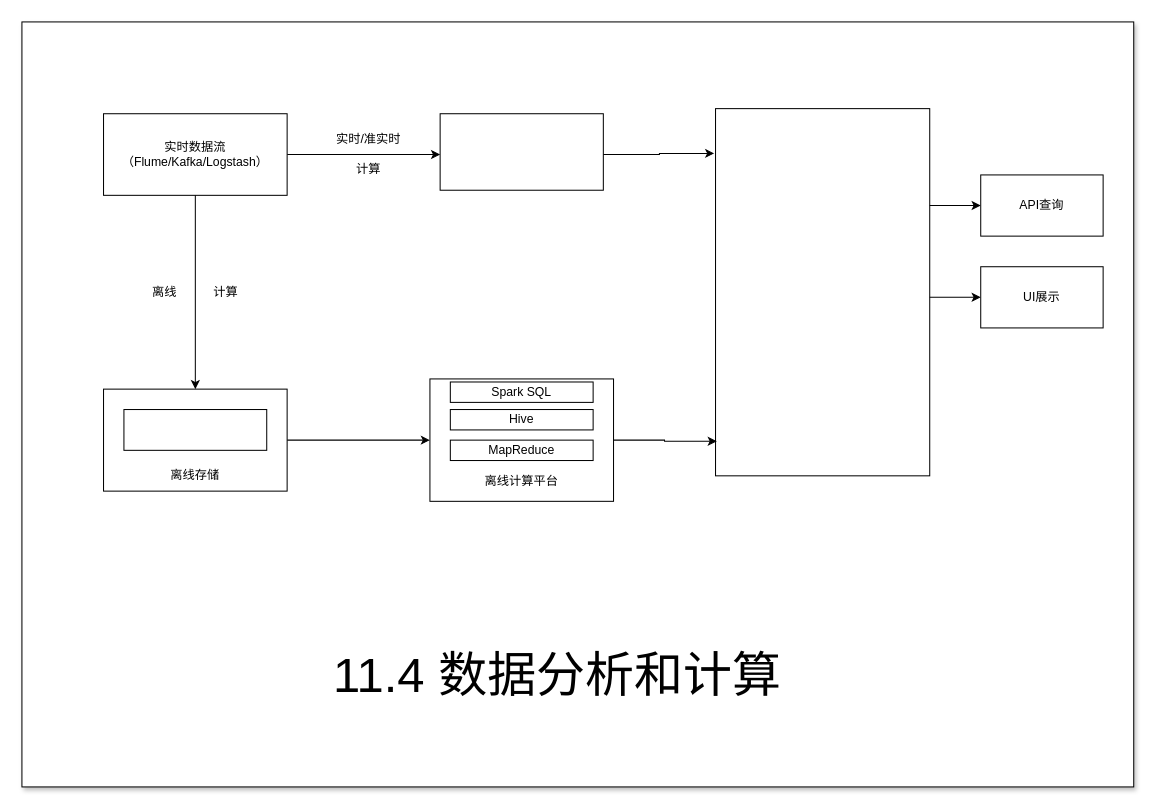
This 1158x812 diagram has some shape labels left out. The shapes that lost their labels are listed below. From the top down, each one's centre as x and y in pixels, then its label:
point (521, 151): Flink计算框架
point (822, 292): 存储层 MySQL Redis ElasticSearch
point (195, 429): HDFS
